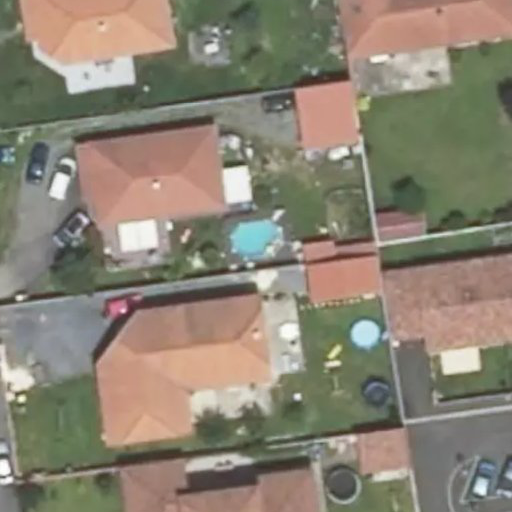pool: (232, 230, 279, 253)
